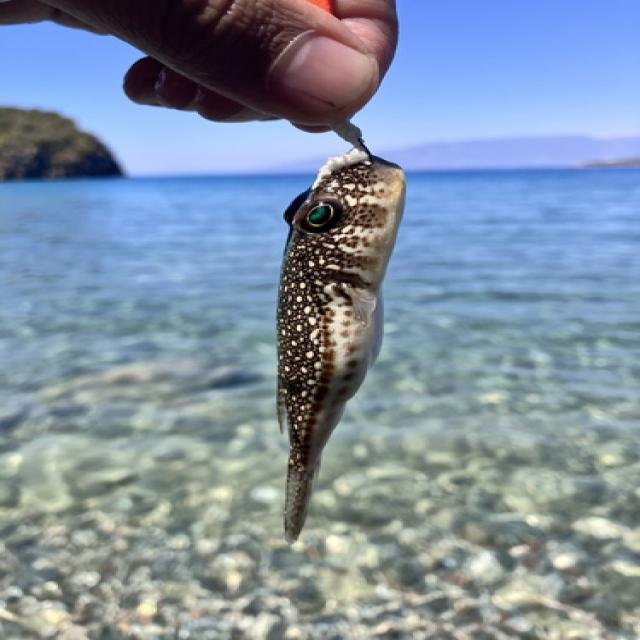Balik: (277, 149, 404, 542)
